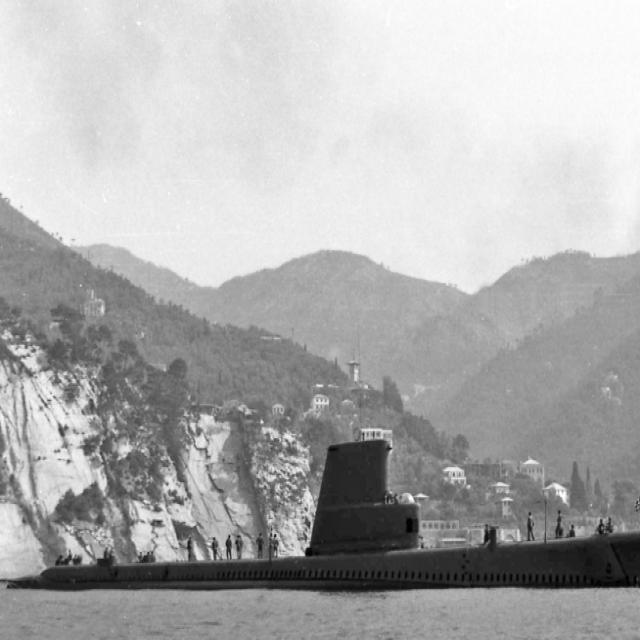submarine: (12, 441, 640, 584)
